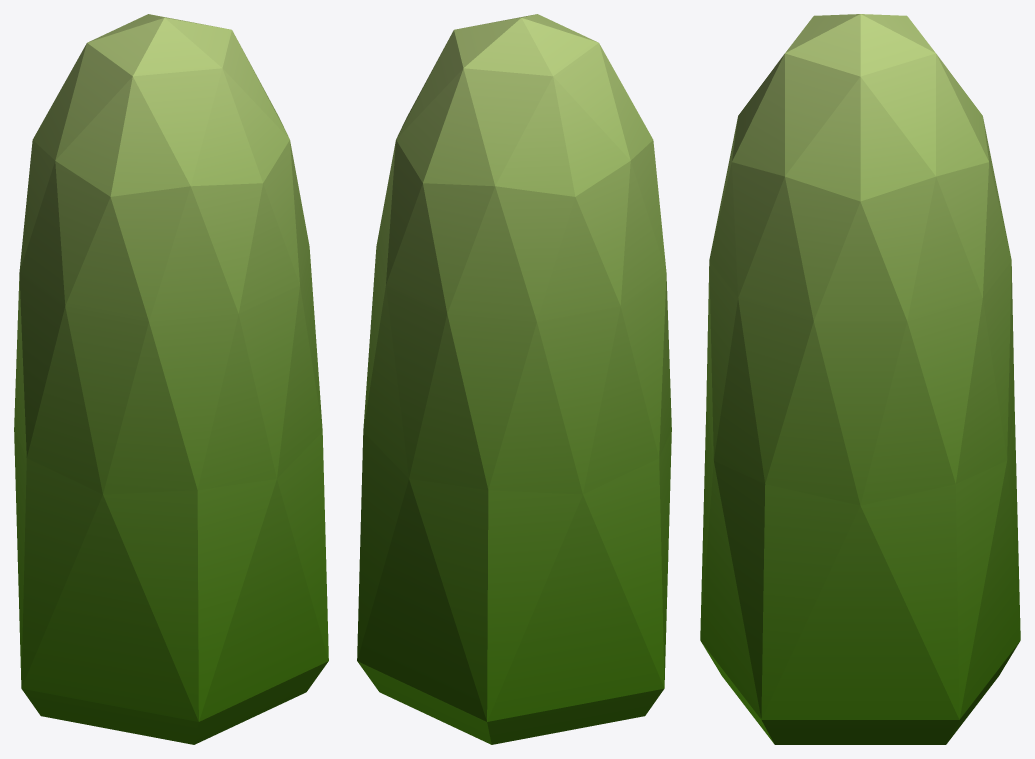
File: Long_Bush.fbx
3 renders of one model, left to right at view 1: azimuth 30°, elevation 25°; view 2: azimuth 150°, elevation 25°; view 3: azimuth 270°, elevation 25°, orthographic.
Visible parts, largest first — view 1: Long_Bush; view 2: Long_Bush; view 3: Long_Bush.
Part boxes in pixels (bbox=[...]): Long_Bush: bbox=[14, 14, 328, 744]; Long_Bush: bbox=[357, 14, 671, 744]; Long_Bush: bbox=[700, 14, 1020, 744].
Bounding box in the file's own units: 213 × 507 × 212.
